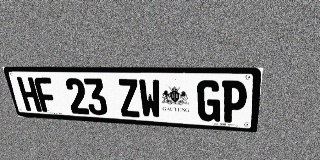2: (64, 78, 89, 114)
3: (83, 78, 108, 115)
F: (33, 77, 59, 113)
G: (197, 80, 221, 122)
H: (16, 77, 42, 112)
P: (221, 80, 248, 123)
W: (138, 79, 162, 119)
Z: (117, 79, 141, 117)
